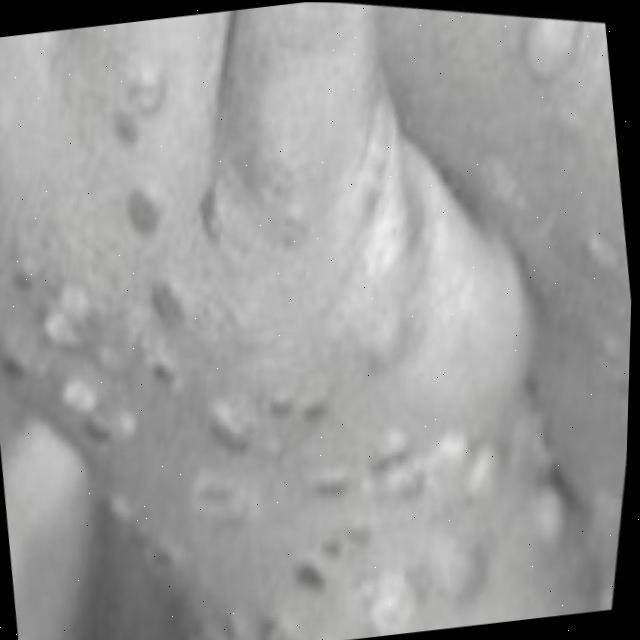Eczema: (9, 101, 603, 640)
